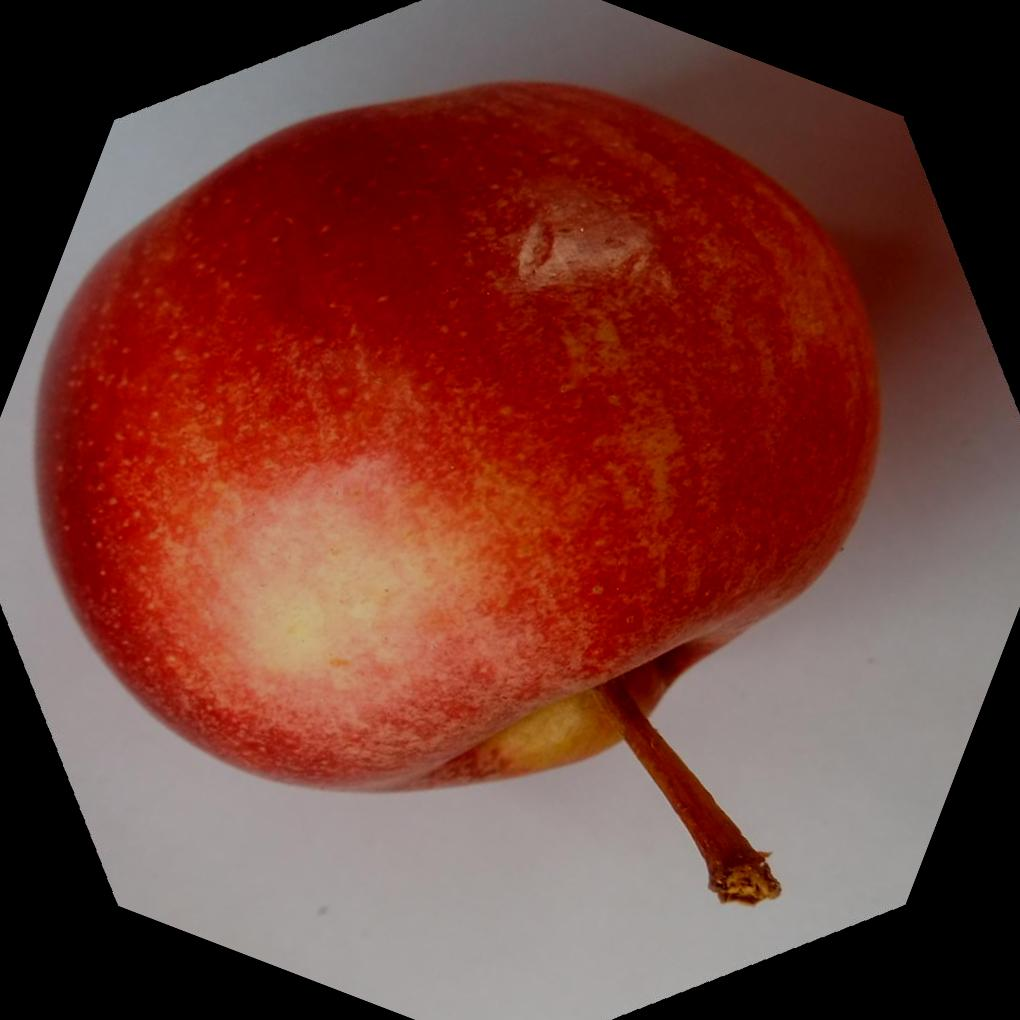FreshGuava: (34, 80, 885, 892)
